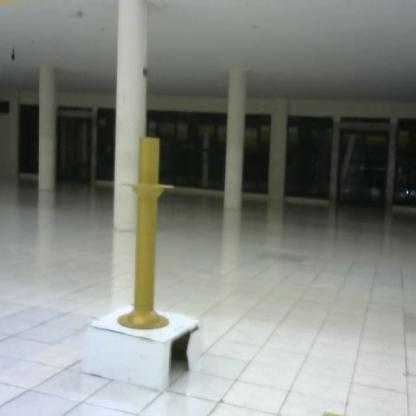pole: (116, 131, 180, 335)
